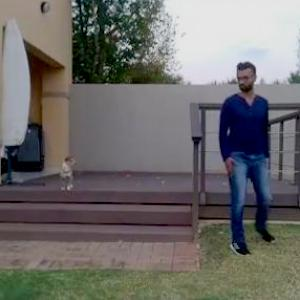follow: (202, 54, 266, 268)
